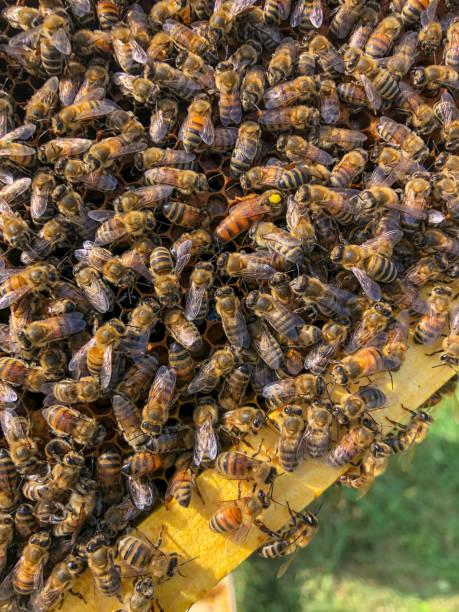Queen-Bee: (214, 189, 284, 242)
worker-bee: (330, 230, 401, 301), (193, 397, 265, 466), (257, 502, 318, 576), (208, 487, 270, 542), (343, 48, 398, 108), (22, 450, 84, 501), (117, 534, 179, 583), (80, 319, 124, 388), (33, 554, 84, 611), (245, 290, 303, 340), (290, 274, 356, 317), (294, 184, 363, 224), (75, 241, 135, 287), (340, 441, 391, 494), (0, 262, 58, 308), (332, 346, 400, 385), (42, 405, 105, 446), (11, 531, 51, 595), (30, 13, 71, 75), (51, 184, 97, 239), (18, 312, 85, 348), (383, 405, 433, 453), (344, 302, 391, 353), (326, 419, 377, 466), (0, 410, 38, 473), (121, 299, 160, 360), (214, 451, 276, 489), (86, 534, 121, 601), (214, 286, 250, 351), (250, 221, 303, 265), (141, 366, 175, 434), (55, 479, 96, 535), (376, 116, 428, 160), (52, 99, 117, 134), (413, 285, 451, 344), (84, 134, 146, 170), (187, 347, 235, 393), (392, 174, 430, 231), (95, 210, 155, 245), (73, 262, 114, 313), (262, 374, 325, 406), (332, 386, 386, 423), (146, 62, 200, 99), (162, 19, 212, 58), (54, 159, 116, 190), (179, 95, 213, 151), (276, 404, 304, 471), (298, 402, 331, 457), (150, 246, 180, 306), (185, 261, 214, 323), (144, 166, 207, 194), (263, 76, 318, 108), (240, 165, 309, 190), (217, 251, 276, 280), (276, 135, 332, 165), (215, 64, 242, 126), (230, 121, 260, 176), (258, 105, 319, 132), (111, 26, 146, 72), (0, 356, 46, 391), (42, 376, 99, 404), (113, 185, 172, 212), (365, 14, 401, 58), (112, 72, 159, 105), (73, 59, 108, 102), (411, 64, 458, 96), (309, 125, 366, 151), (329, 149, 367, 187), (267, 38, 296, 85), (38, 138, 91, 163), (135, 147, 195, 169), (30, 169, 54, 219)
